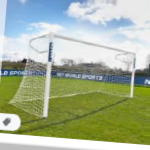goals: (14, 29, 139, 118)
